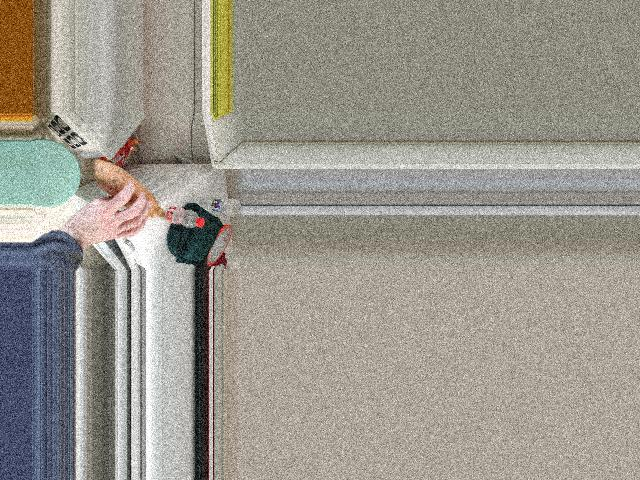sweet_potato: (102, 162, 162, 234)
